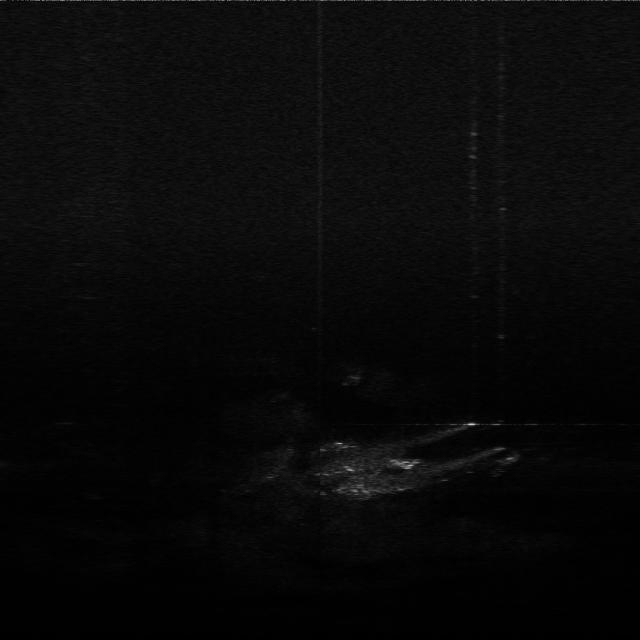rov: (390, 453, 420, 472)
